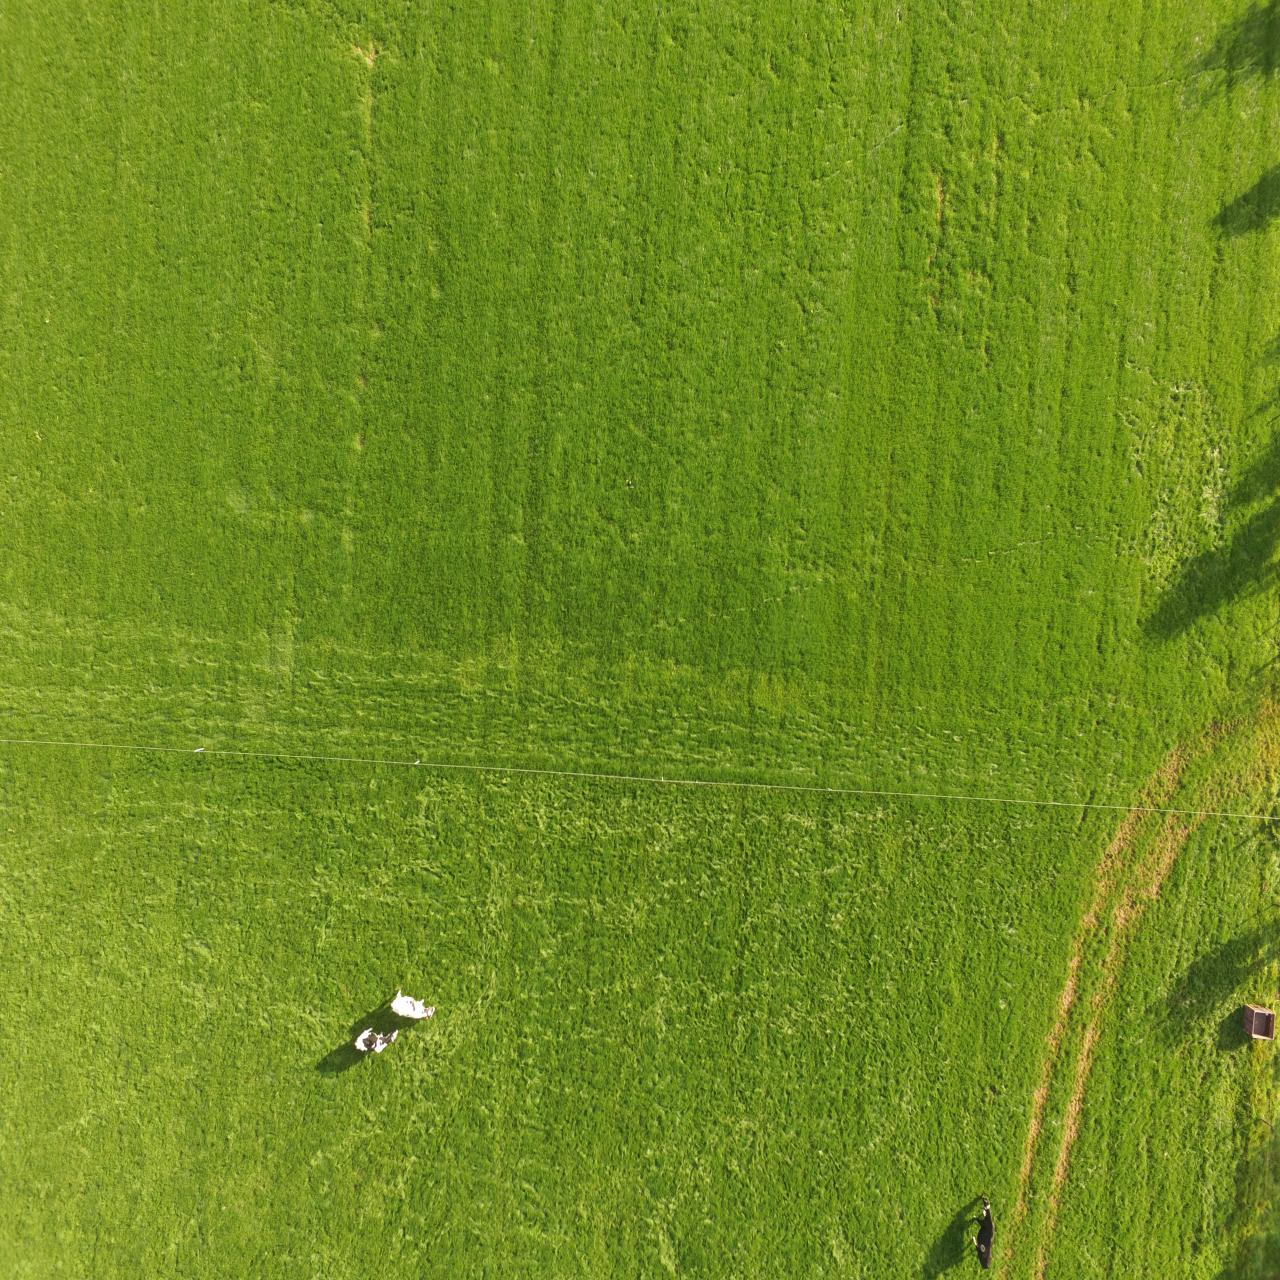cow: (964, 1185, 1006, 1273), (390, 987, 437, 1023), (353, 1023, 402, 1057)
